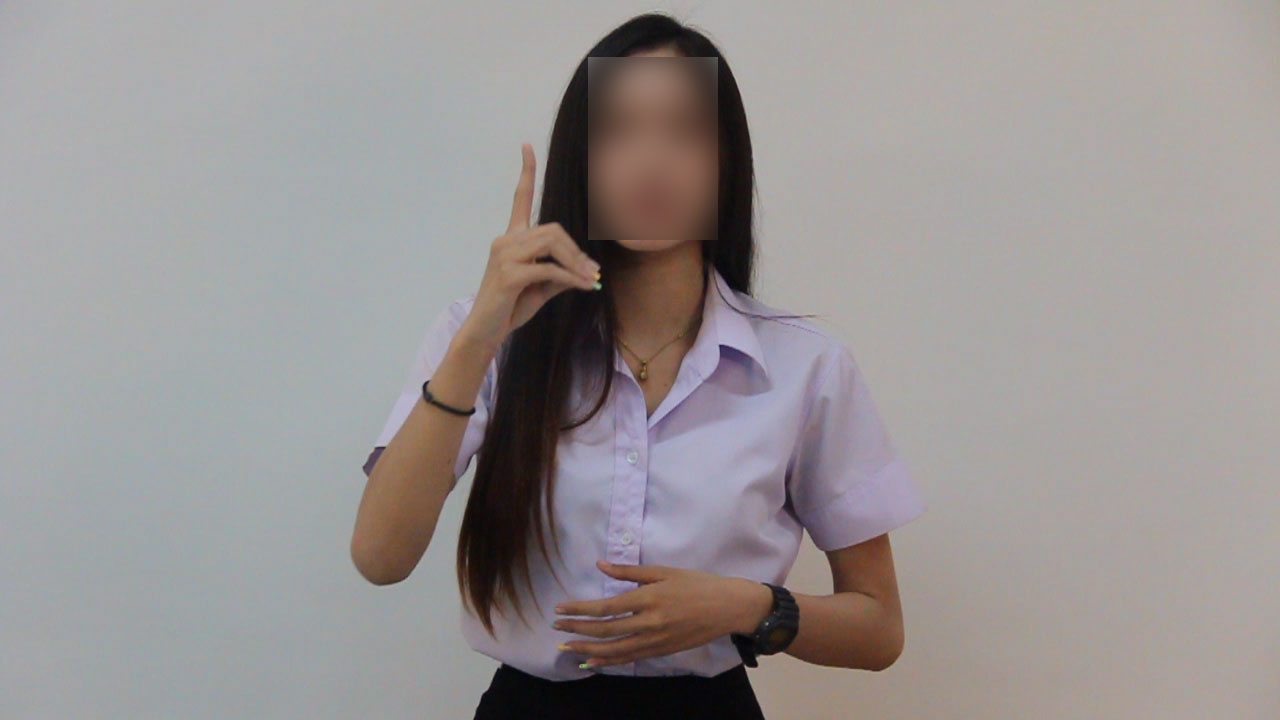dor: (445, 134, 606, 340)
